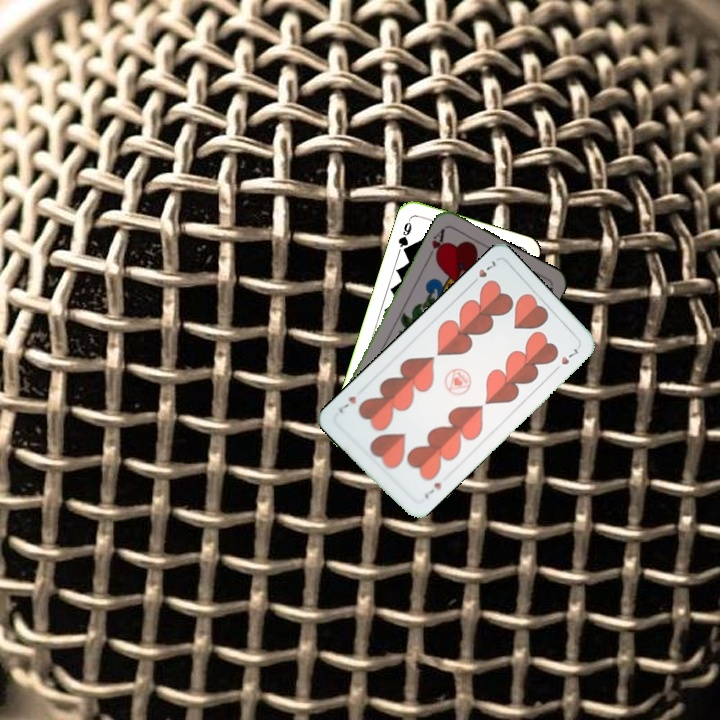G9: (394, 214, 414, 255)
H7: (467, 256, 498, 288), (420, 478, 444, 502)
HA: (423, 224, 448, 263)
